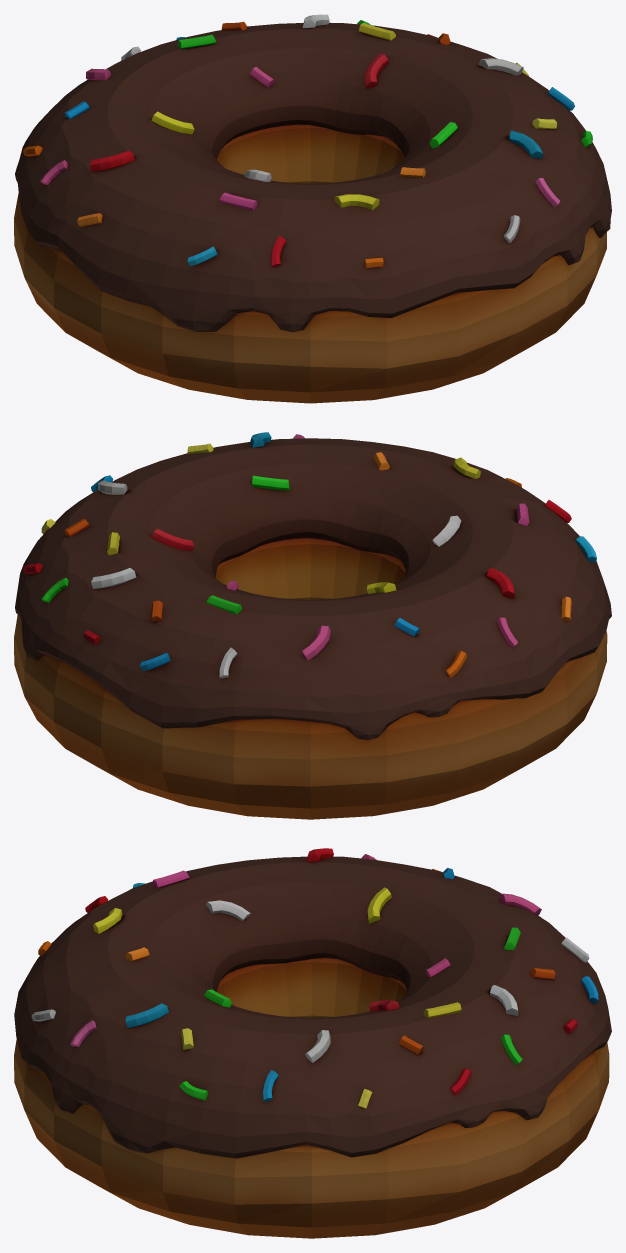
File: PGVWA6GR774QQO3P6ORWK8U9A.glb
3 views of the same model, one above another, from view 1: azimuth 30°, elevation 25°; view 2: azimuth 150°, elevation 25°; view 3: azimuth 270°, elevation 25° (orthographic).
Size of the model in its own units: 2.49 by 0.9503 by 2.5.
1 material, 1 textured.
